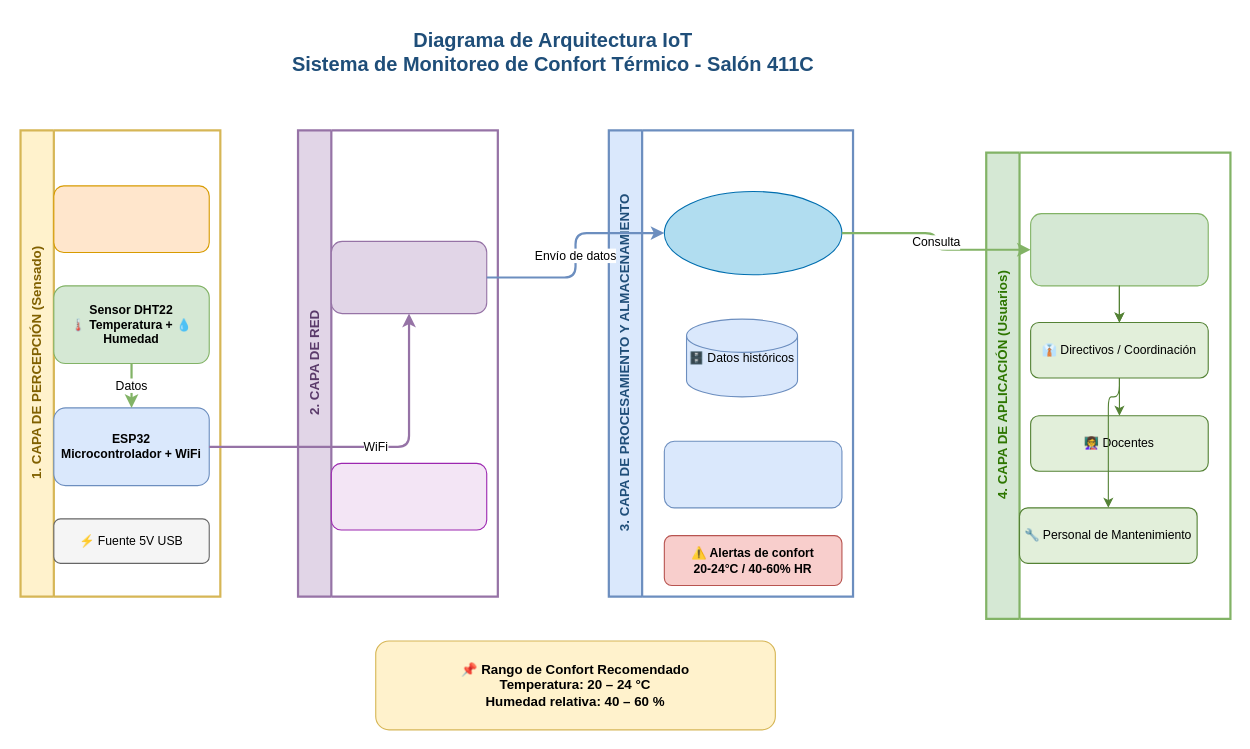
Image size: 1250x749. Some labels were removed from this diagram. Each missing label, with the centre of its shape:
"HTTP / MQTT Cada 5-10 min" goes at [408,496].
"☁️ ThingSpeak / Firebase Plataforma en la Nube" goes at [752,232].
"🏫 Salón 411C" goes at [131,219].
"💻 Panel Web / Dashboard ThingSpeak / Navegador" goes at [1119,249].
"📊 Gráficas automáticas Hora / día" goes at [752,474].
"📶 WiFi del Edificio" goes at [408,277].
